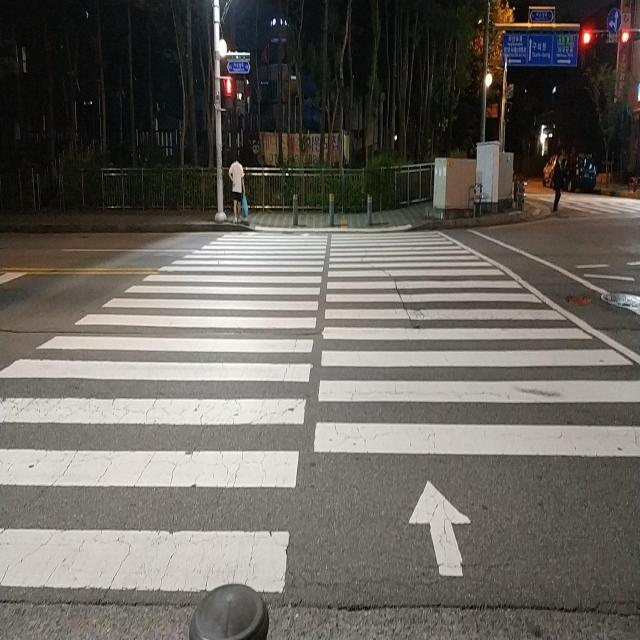빨간불: (223, 75, 236, 112)
횡단보도: (0, 228, 640, 597), (536, 196, 640, 219)
